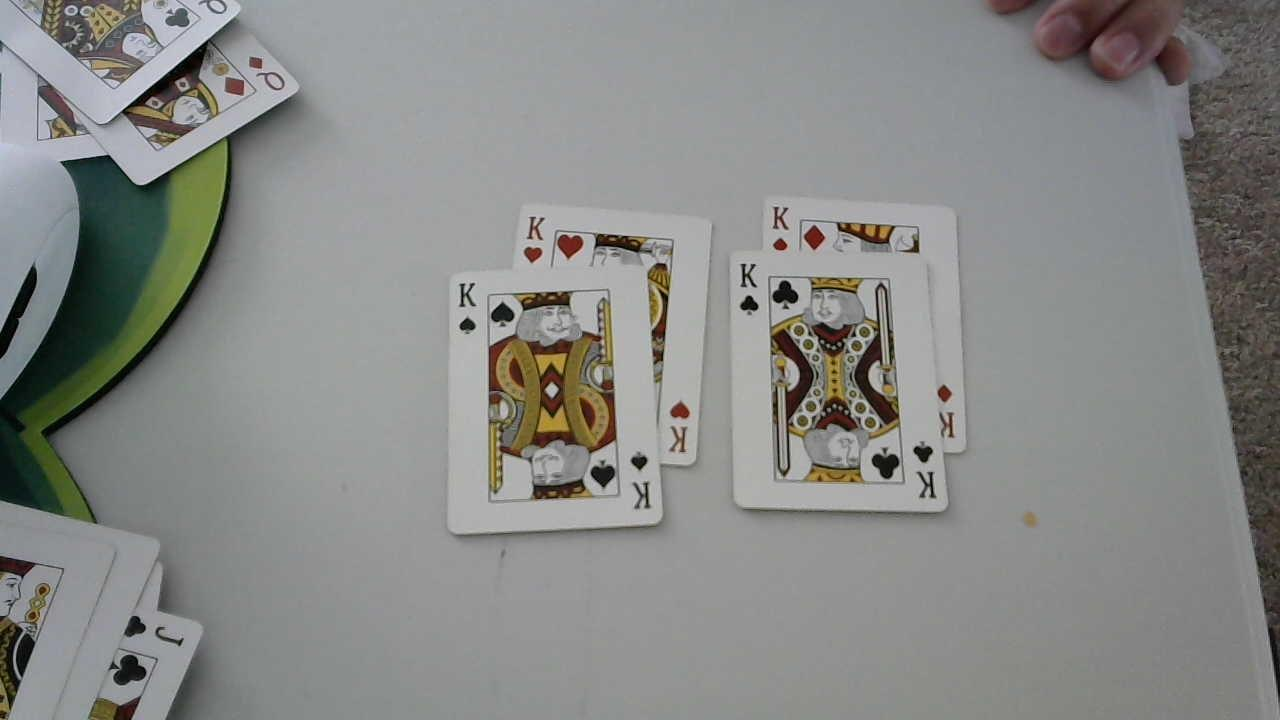JC: (123, 617, 191, 647)
KC: (909, 437, 939, 502), (737, 258, 760, 319)
KD: (932, 373, 958, 441), (767, 207, 798, 257)
KH: (666, 396, 693, 458), (521, 212, 548, 263)
KS: (628, 449, 658, 518), (456, 280, 482, 338)
QD: (243, 52, 288, 93)
